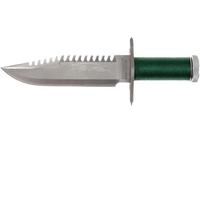knife: (1, 33, 200, 107)
